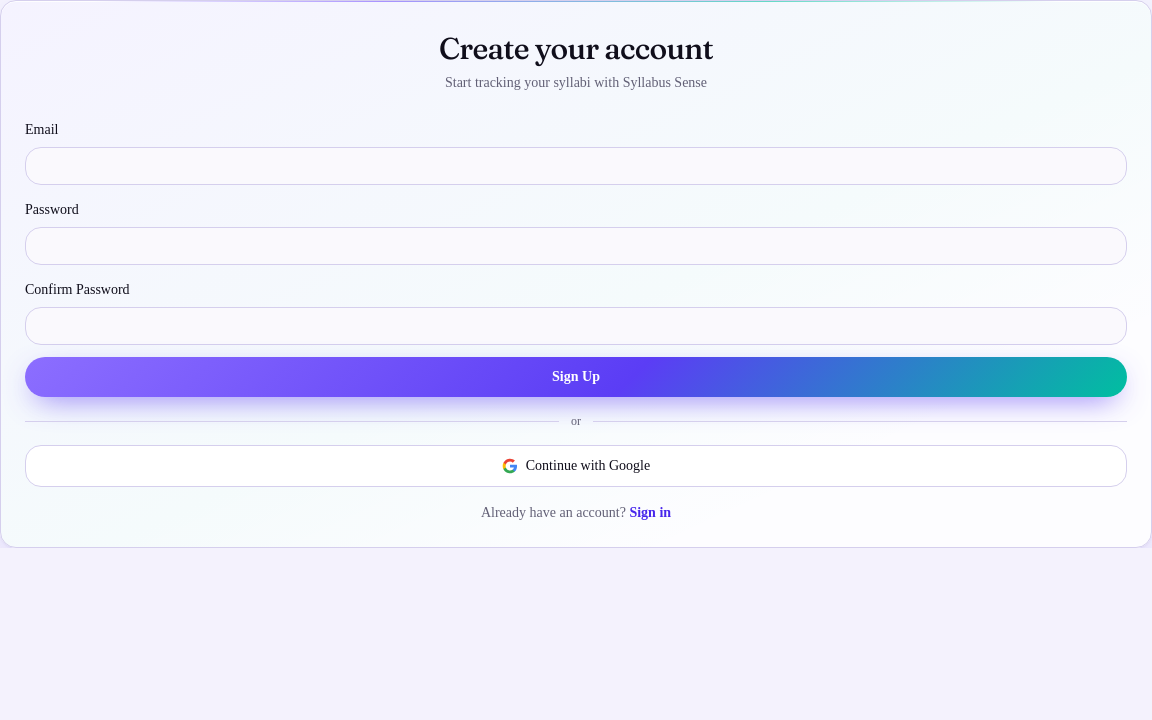
it: SignupPage › shows Sign Up Failed and stays on the page when the account cannot be created
The image size is (1152, 720).
In the field labelled "Email": (576, 166) [25,147,1127,185], type "taken@school.edu"
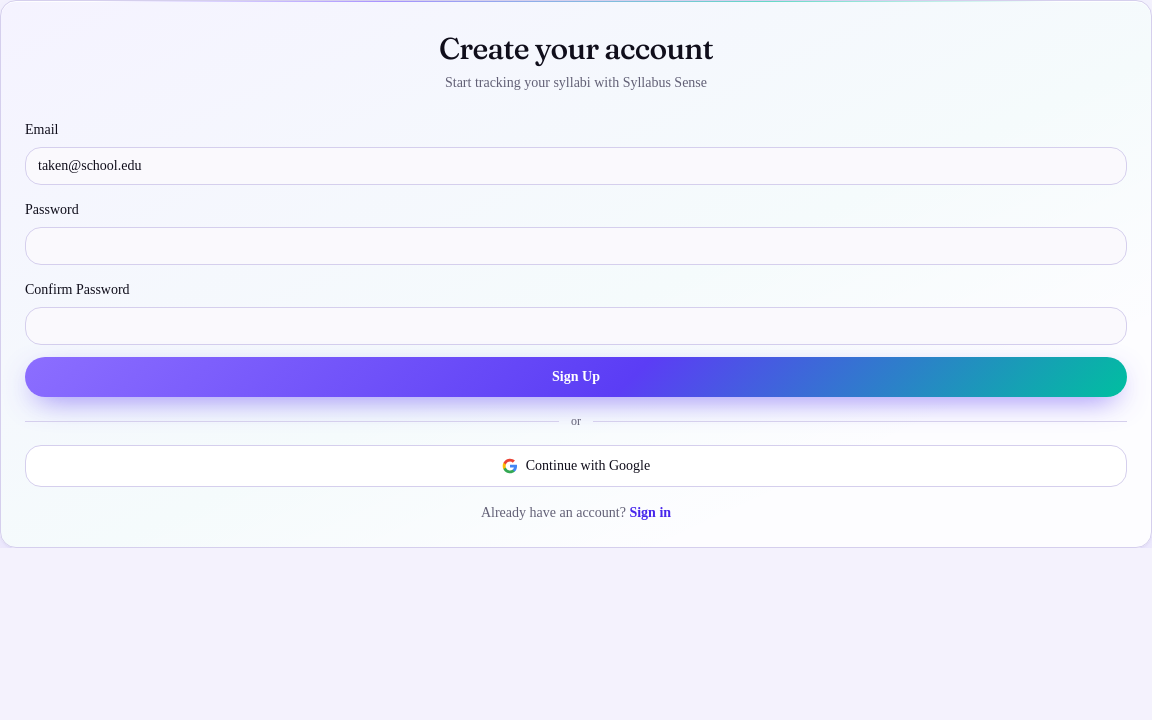
In the password field labelled "Password": (576, 246) [25,227,1127,265], type "abc123"
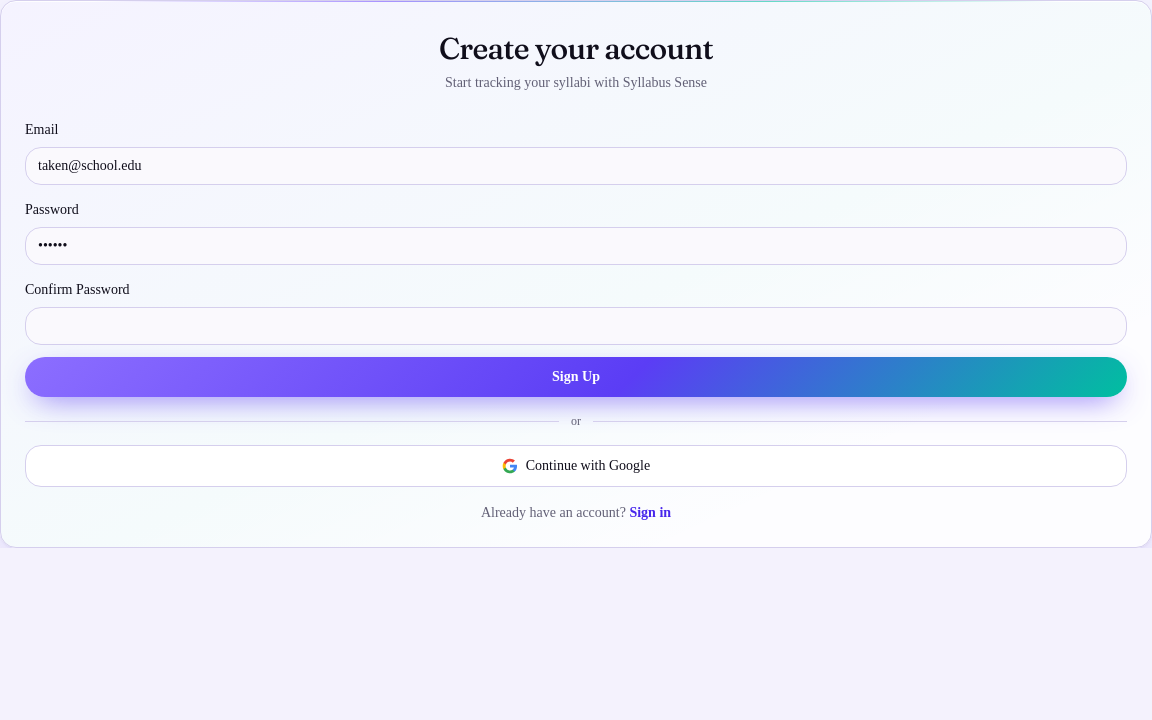
In the password field labelled "Confirm Password": (576, 326) [25,307,1127,345], type "abc123"
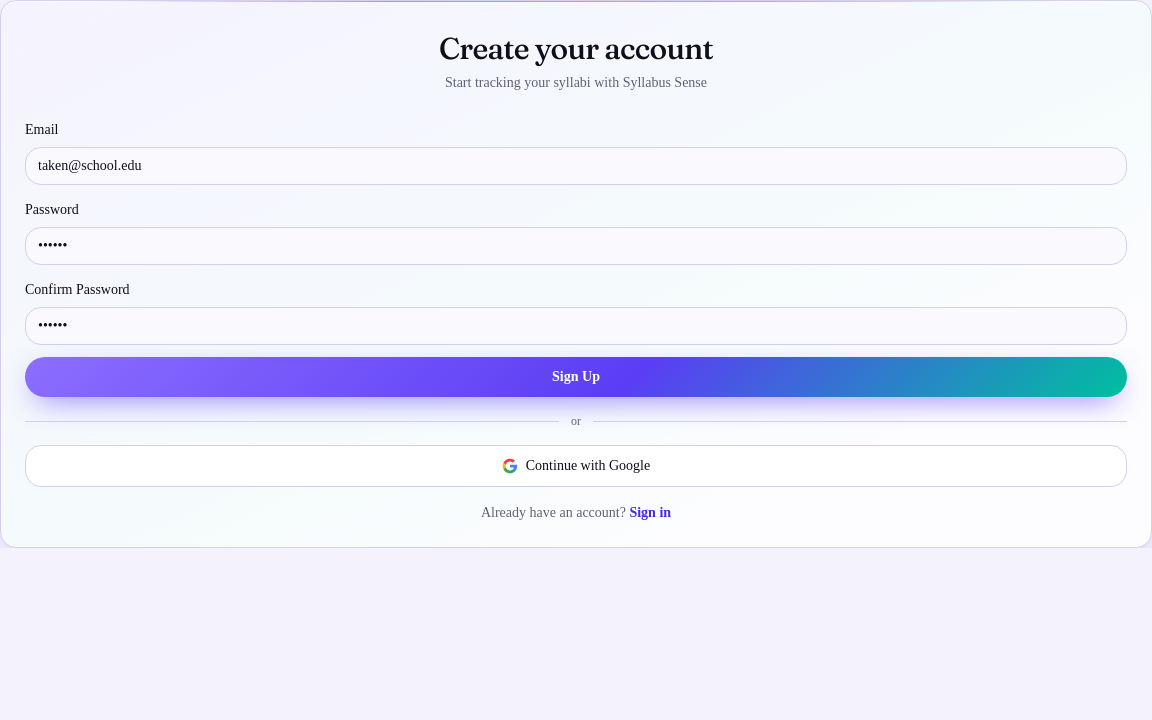
Click the button "Sign Up": (576, 377) [25,357,1127,397]
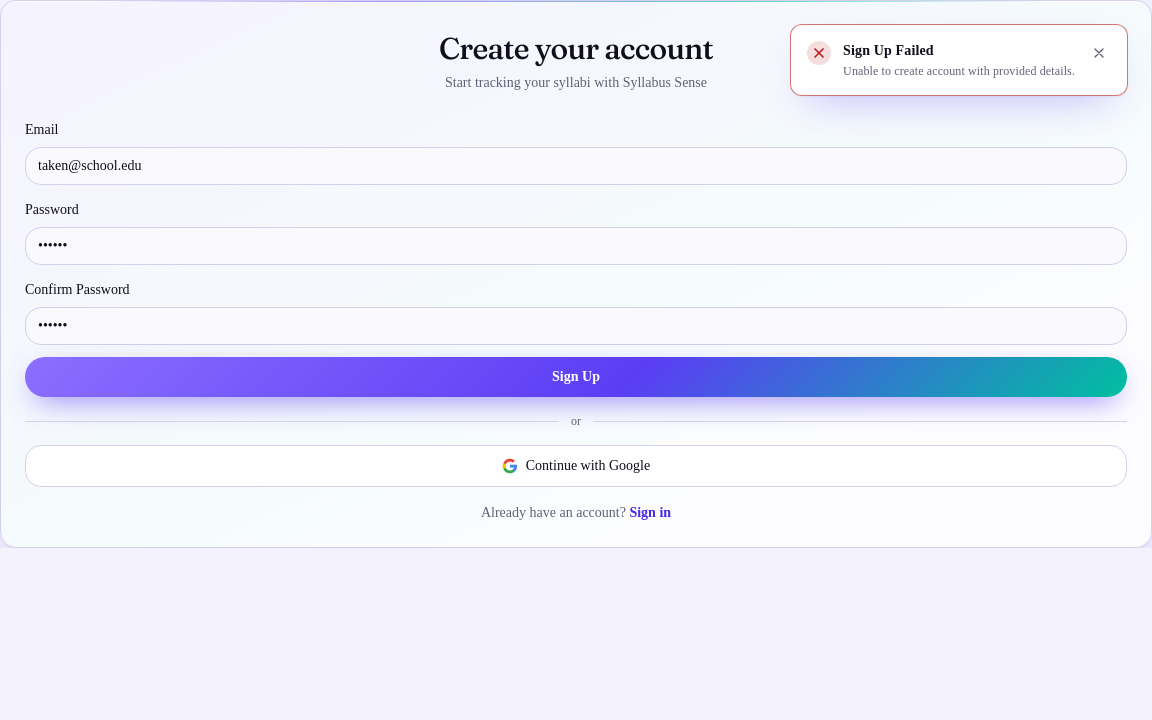
Check: the heading "Sign Up Failed" is shown, box [843,43,934,58]
Check: the text "Unable to create account with provided details." is shown, box [843,63,1075,79]
